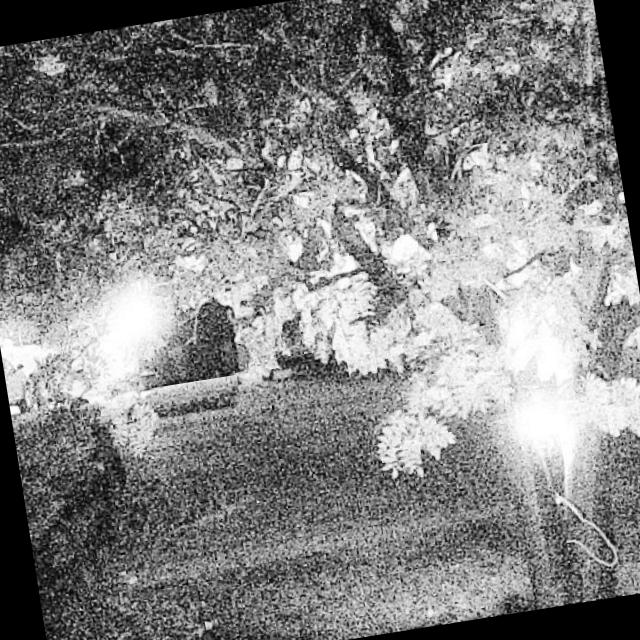Tree: (249, 0, 640, 639)
